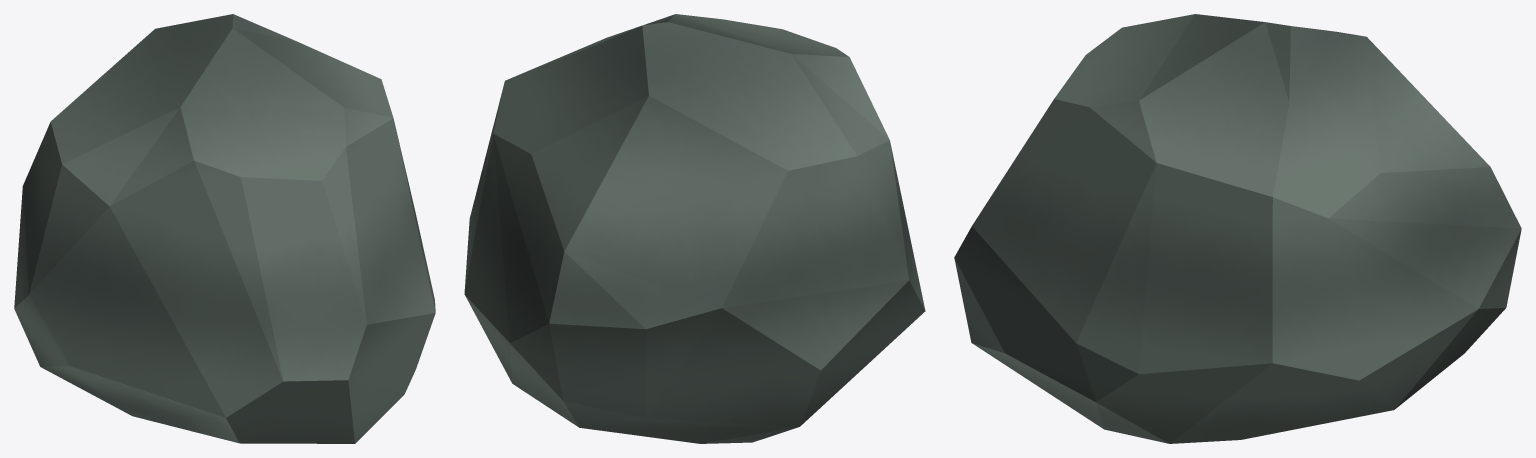
Rendered from rock 2.fbx.
3 views of the same model, side by side, from view 1: azimuth 30°, elevation 25°; view 2: azimuth 150°, elevation 25°; view 3: azimuth 270°, elevation 25° (orthographic). The views are drawn at different scales.
Parts seen in each view (by area): view 1: Rock 2 EXP; view 2: Rock 2 EXP; view 3: Rock 2 EXP.
Boxes of the visible parts, x1=… form: Rock 2 EXP: x1=14, y1=14, x2=435, y2=443; Rock 2 EXP: x1=464, y1=14, x2=925, y2=443; Rock 2 EXP: x1=954, y1=14, x2=1521, y2=443.
Size of the model in its own units: 125 by 112 by 144.
Materials: 1 (1 with a texture image).
